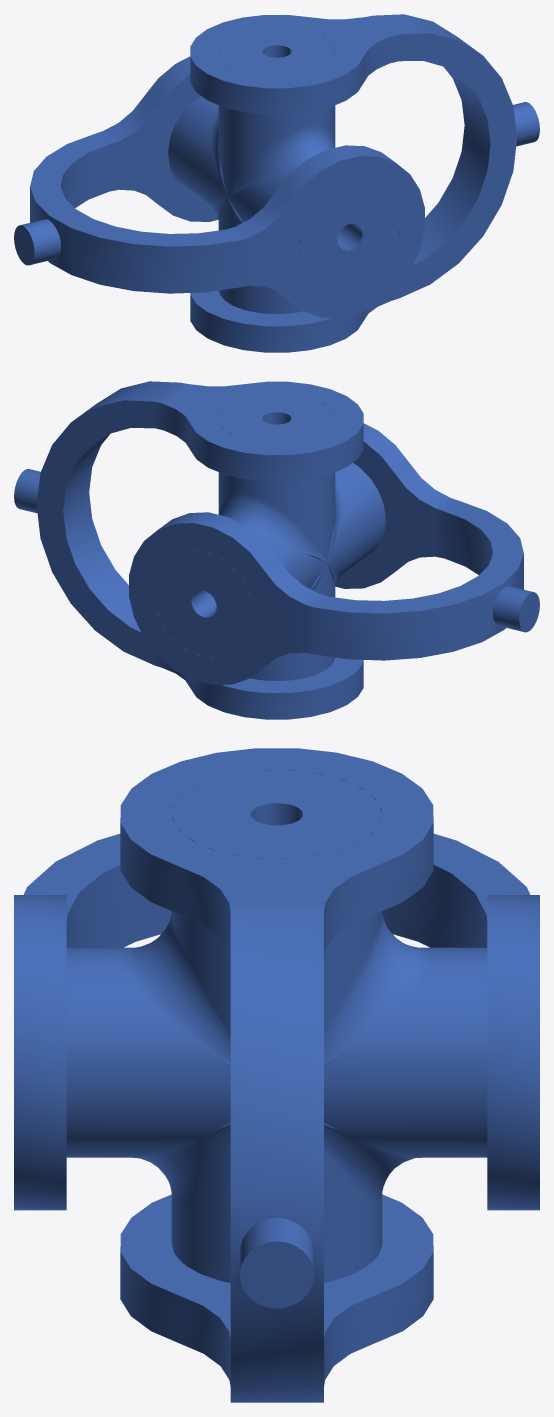
File: universal_joint.glb
The picture shows the model from 3 angles, top to bottom: view 1: azimuth 30°, elevation 25°; view 2: azimuth 150°, elevation 25°; view 3: azimuth 270°, elevation 25°; orthographic projection. The views are drawn at different scales.
Visible parts, largest first — view 1: Object_2; view 2: Object_2; view 3: Object_2.
Boxes of the visible parts, x1=… form: Object_2: x1=14, y1=14, x2=539, y2=352; Object_2: x1=14, y1=381, x2=539, y2=719; Object_2: x1=14, y1=748, x2=539, y2=1402.
Bounding box in the file's own units: 2 × 1 × 1.
